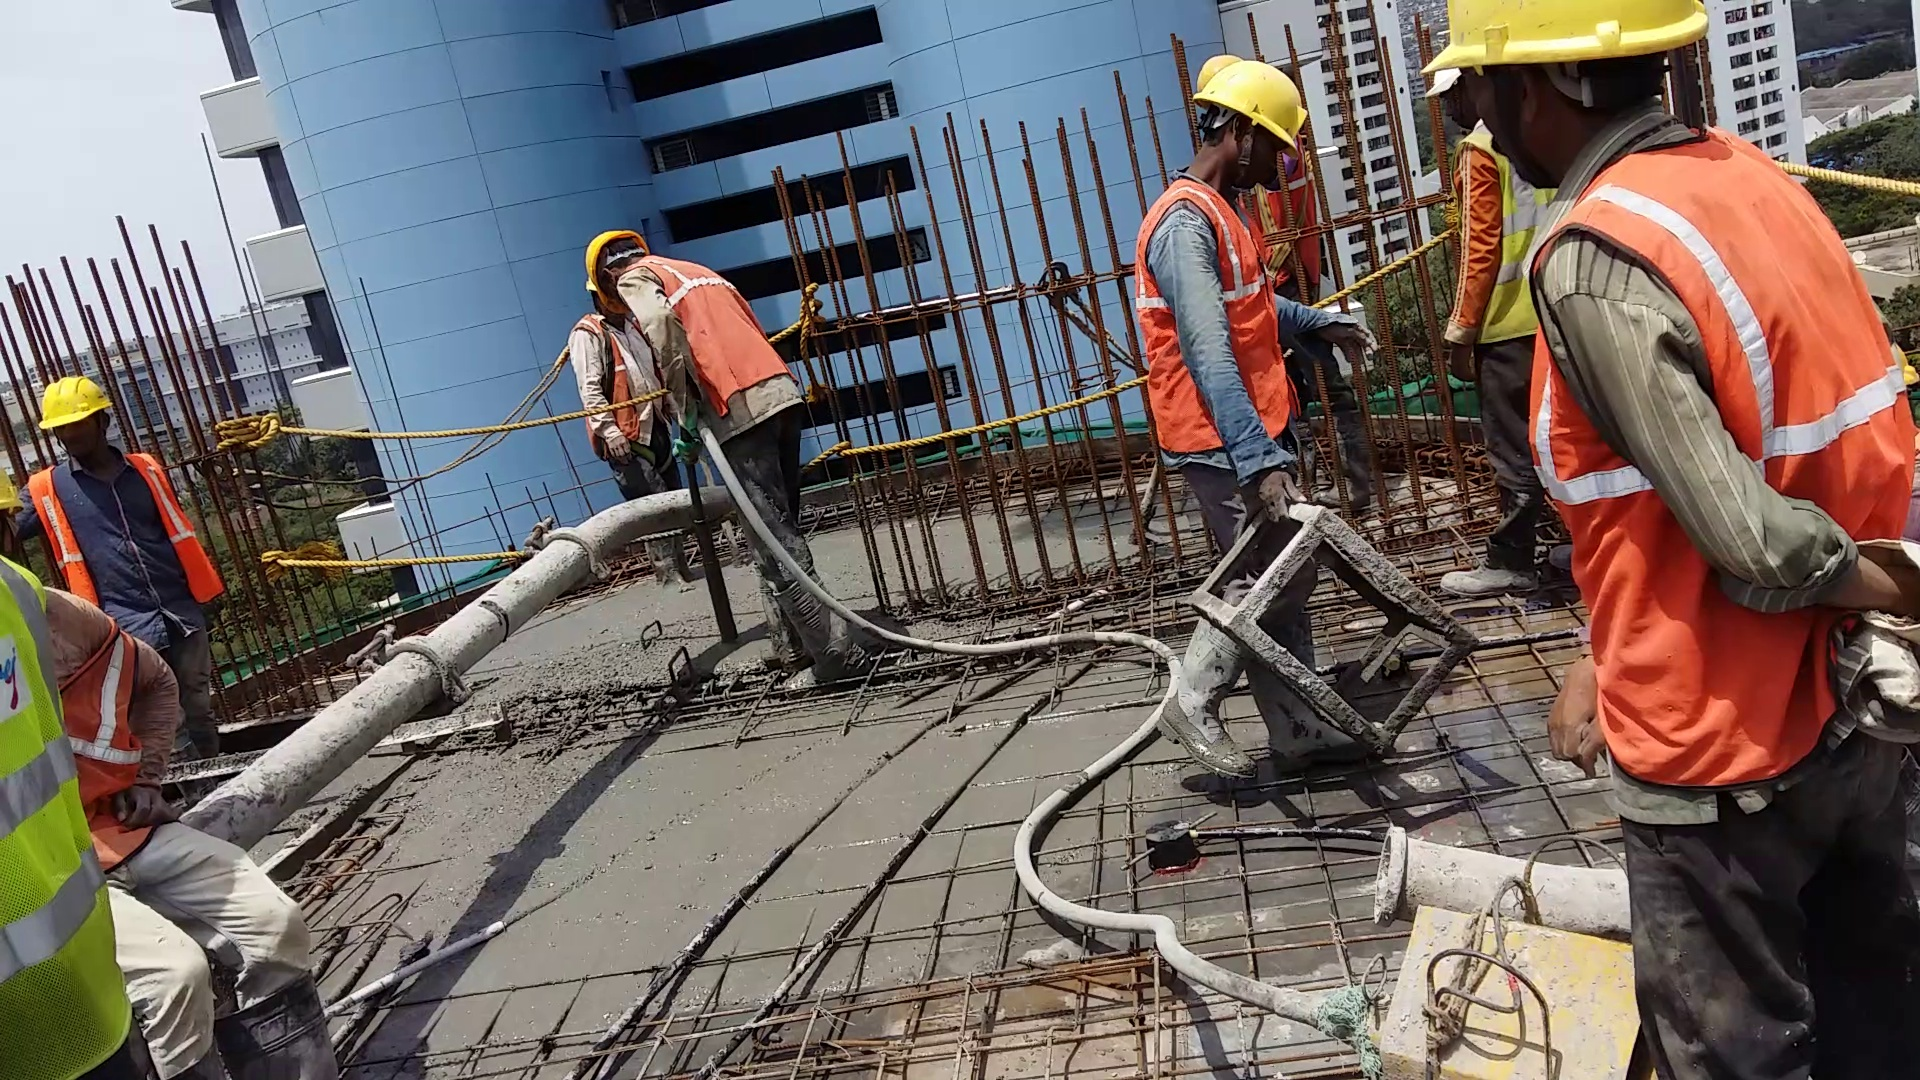SAFE: (1458, 1, 1920, 791), (1127, 61, 1302, 454), (574, 223, 795, 421), (36, 375, 198, 637)
